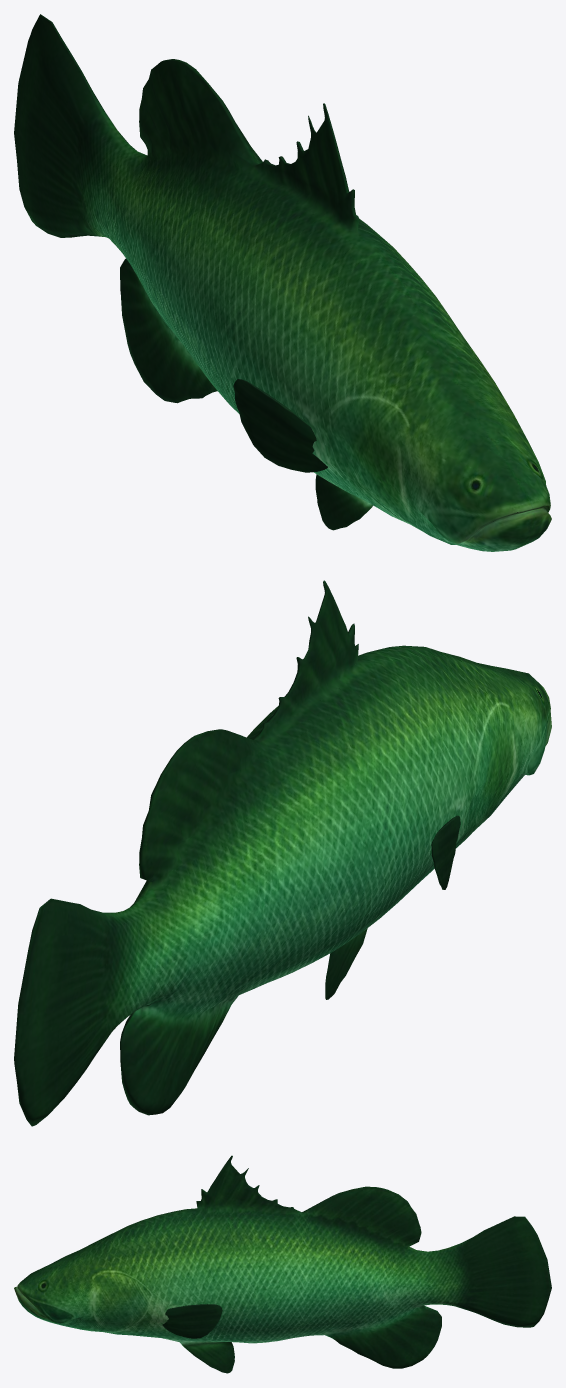
File: boreal_trout.glb
The picture shows the model from 3 angles, top to bottom: view 1: azimuth 30°, elevation 25°; view 2: azimuth 150°, elevation 25°; view 3: azimuth 270°, elevation 25°; orthographic projection. The views are drawn at different scales.
Parts seen in each view (by area): view 1: BarramundiFish; view 2: BarramundiFish; view 3: BarramundiFish.
Part boxes in pixels (x1,y1,x2,y2): BarramundiFish: [14, 14, 551, 551]; BarramundiFish: [14, 580, 551, 1126]; BarramundiFish: [14, 1155, 551, 1373].
Bounding box in the file's own units: 0.1429 × 0.2875 × 0.6431.
Materials: 1 (1 with a texture image).
